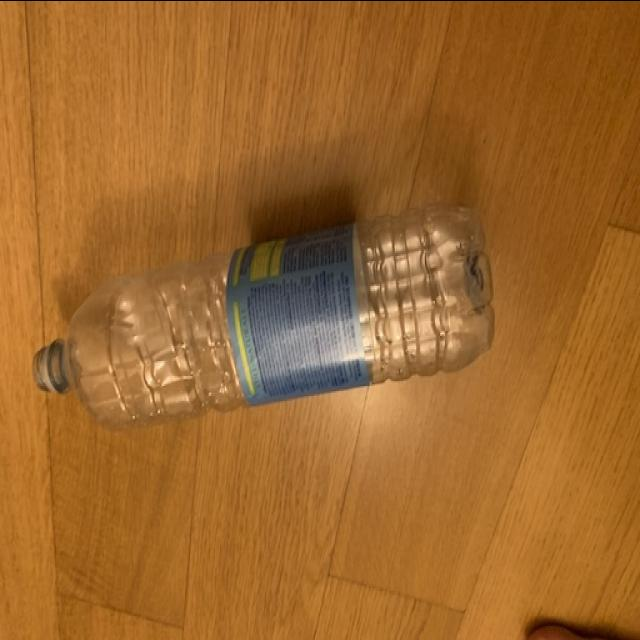litter: (32, 200, 498, 432)
